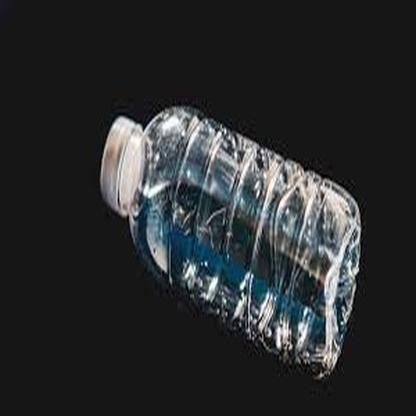plastic bottle: (98, 102, 361, 378)
